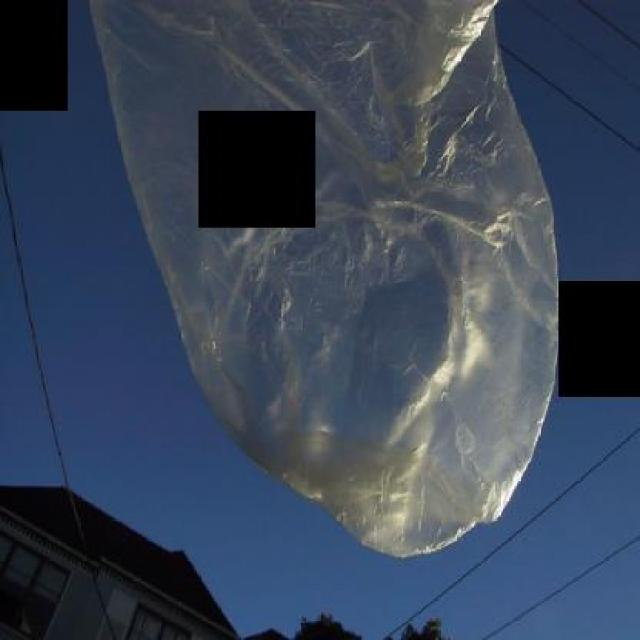plastic bag: (81, 0, 560, 558)
